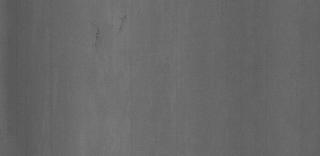water spot: (88, 9, 132, 57)
